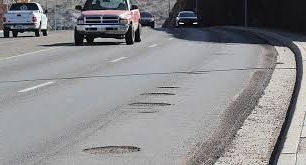pothole: (81, 144, 142, 156), (125, 101, 171, 108), (138, 93, 180, 97), (157, 84, 181, 88)
